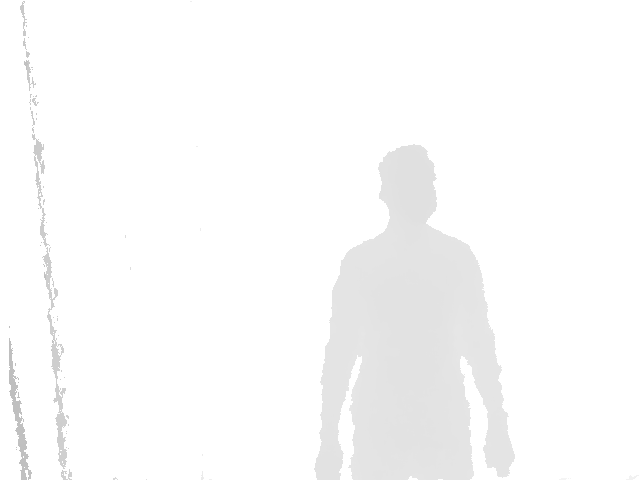head: (377, 144, 438, 227)
person: (314, 144, 516, 480)
